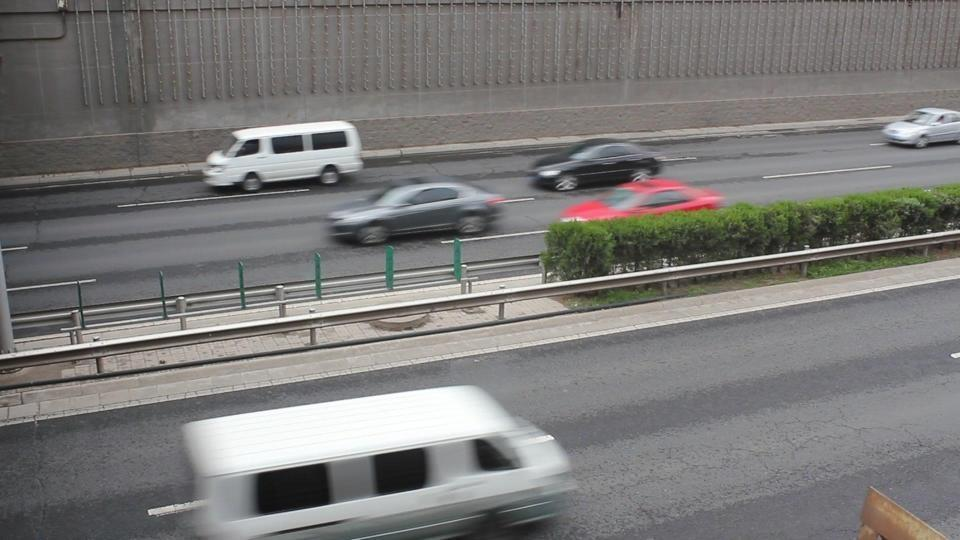car: (178, 382, 572, 537), (324, 180, 506, 247), (203, 121, 364, 192), (528, 141, 663, 193), (558, 177, 727, 218), (881, 107, 960, 149)
